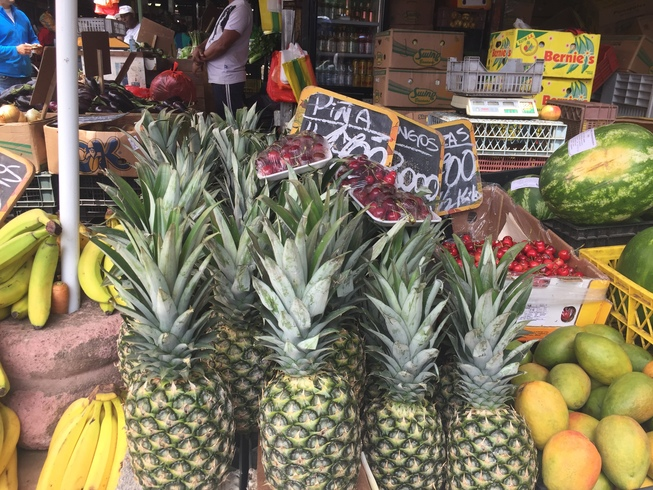precio: (287, 80, 406, 194), (375, 98, 451, 226), (418, 112, 492, 224)
